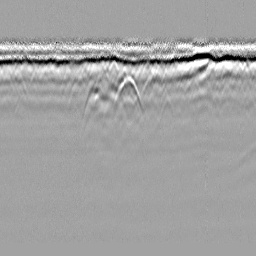cavity: (111, 75, 143, 112)
